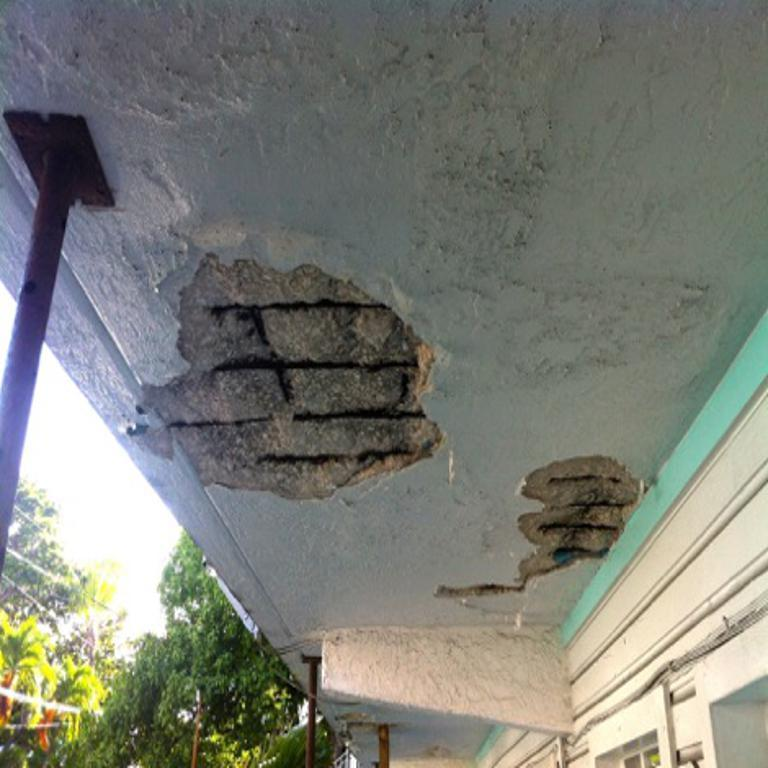spalling: (146, 255, 441, 498), (436, 454, 644, 600)
